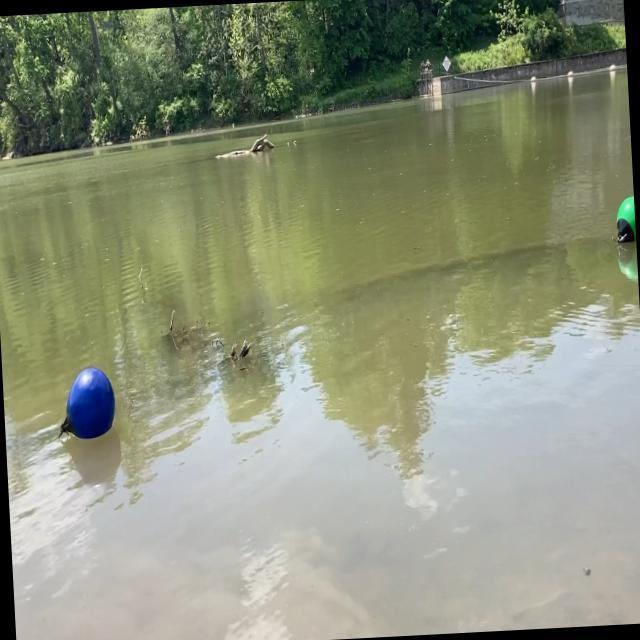buoy: (58, 364, 118, 438), (615, 196, 637, 247)
